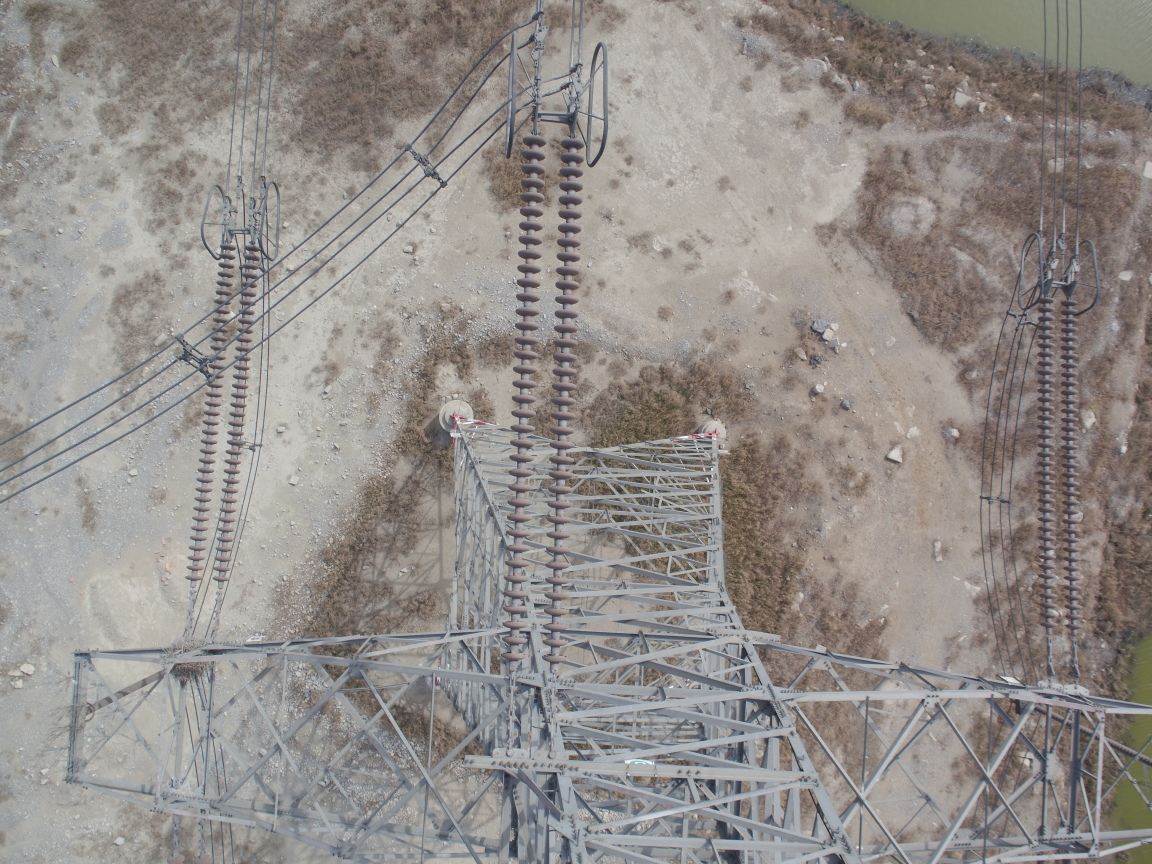insulator: (499, 117, 590, 676), (181, 232, 274, 614), (1030, 287, 1081, 647)
